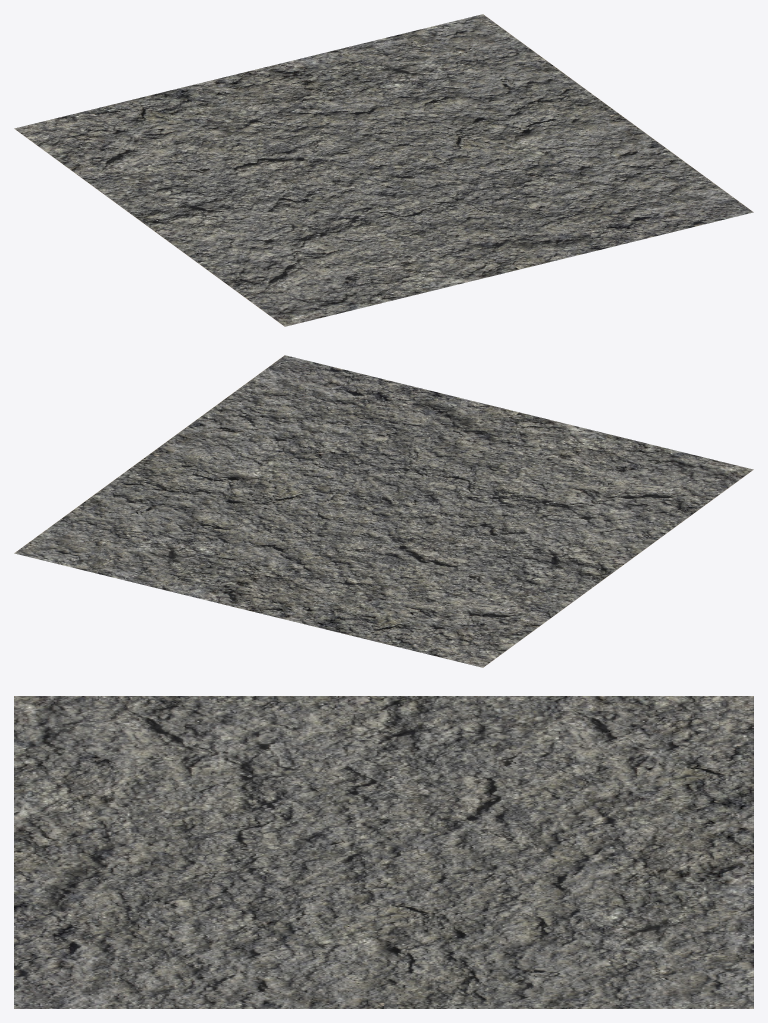
File: Stone4f.obj
The picture shows the model from 3 angles, top to bottom: view 1: azimuth 30°, elevation 25°; view 2: azimuth 150°, elevation 25°; view 3: azimuth 270°, elevation 25°; orthographic projection. The views are drawn at different scales.
Visible parts, largest first — view 1: Grid_Grid.018_Grid_Grid.037; view 2: Grid_Grid.018_Grid_Grid.037; view 3: Grid_Grid.018_Grid_Grid.037.
Part boxes in pixels (x1,y1,x2,y2): Grid_Grid.018_Grid_Grid.037: (14,14,753,326); Grid_Grid.018_Grid_Grid.037: (14,355,753,667); Grid_Grid.018_Grid_Grid.037: (14,696,753,1008).
Size of the model in its own units: 1 by 1.01e-06 by 1.
